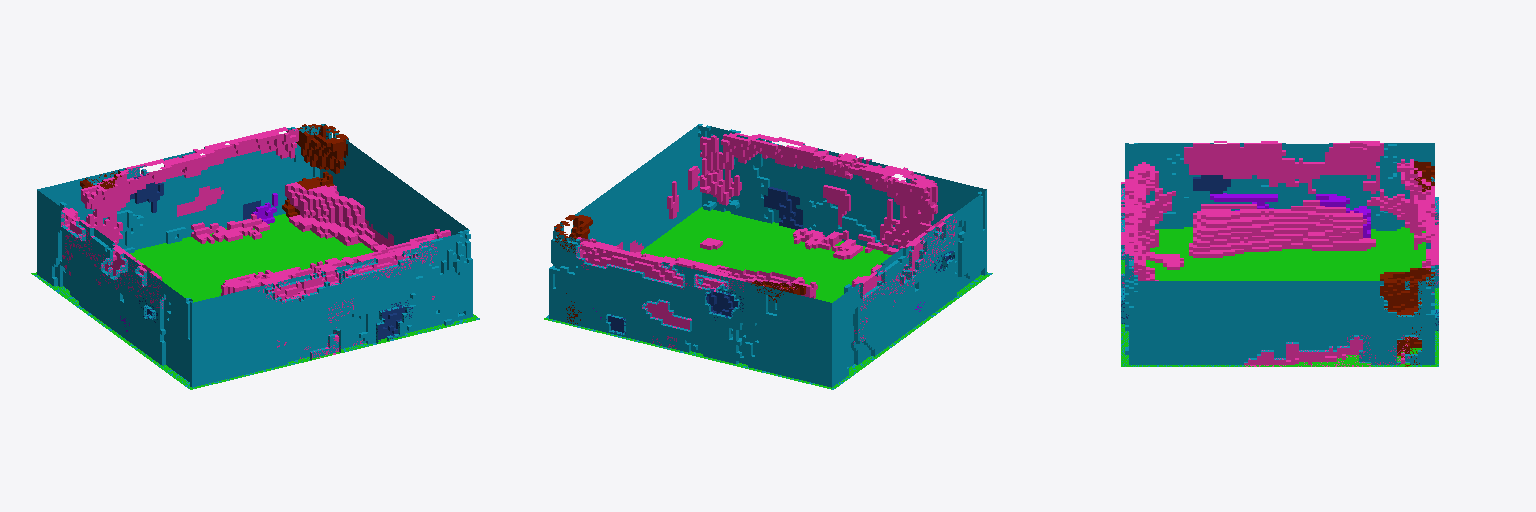
Rendered from Input_prediction.obj.
3 renders of one model, left to right at view 1: azimuth 30°, elevation 25°; view 2: azimuth 150°, elevation 25°; view 3: azimuth 270°, elevation 25°, orthographic.
Visible parts, largest first — view 1: Cube; view 2: Cube; view 3: Cube.
Part boxes in pixels (x1,y1,x2,y2): Cube: (31,124,479,389); Cube: (544,124,992,389); Cube: (1121,141,1438,366).
Bounding box in the file's own units: 6.32 × 1.84 × 6.